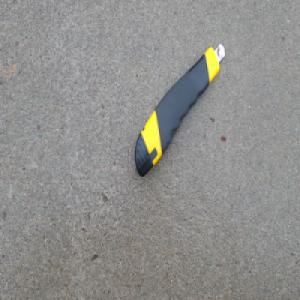Cutter: (134, 43, 225, 179)
